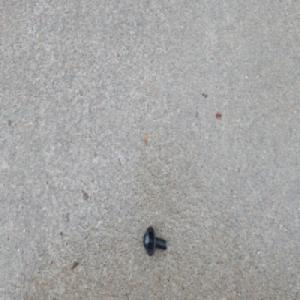BoltWasher: (142, 225, 167, 257)
